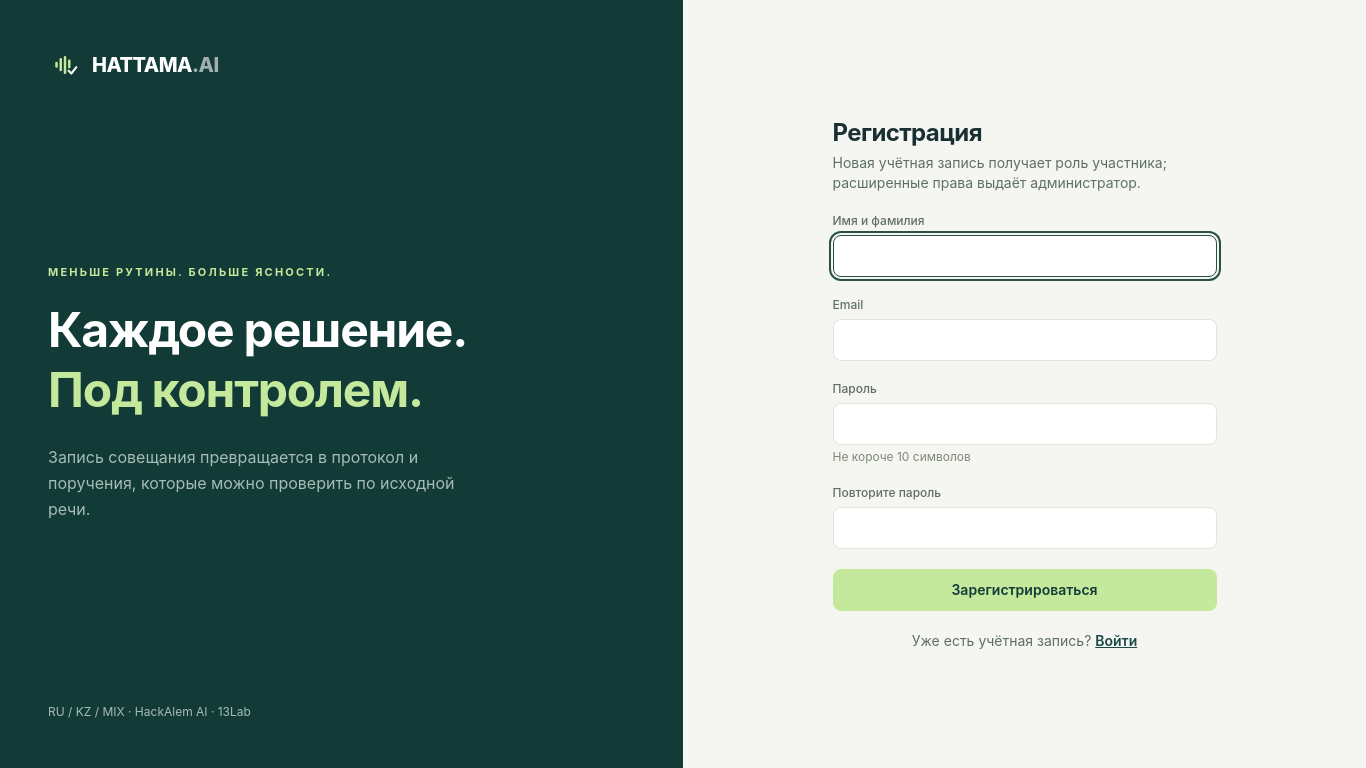
RegisterPage › checks that passwords match before sending
This screenshot has width=1366, height=768.
Type "Айжан Серикова" into the field labelled "Имя и фамилия" at (1024, 256), box [832,235,1216,277]
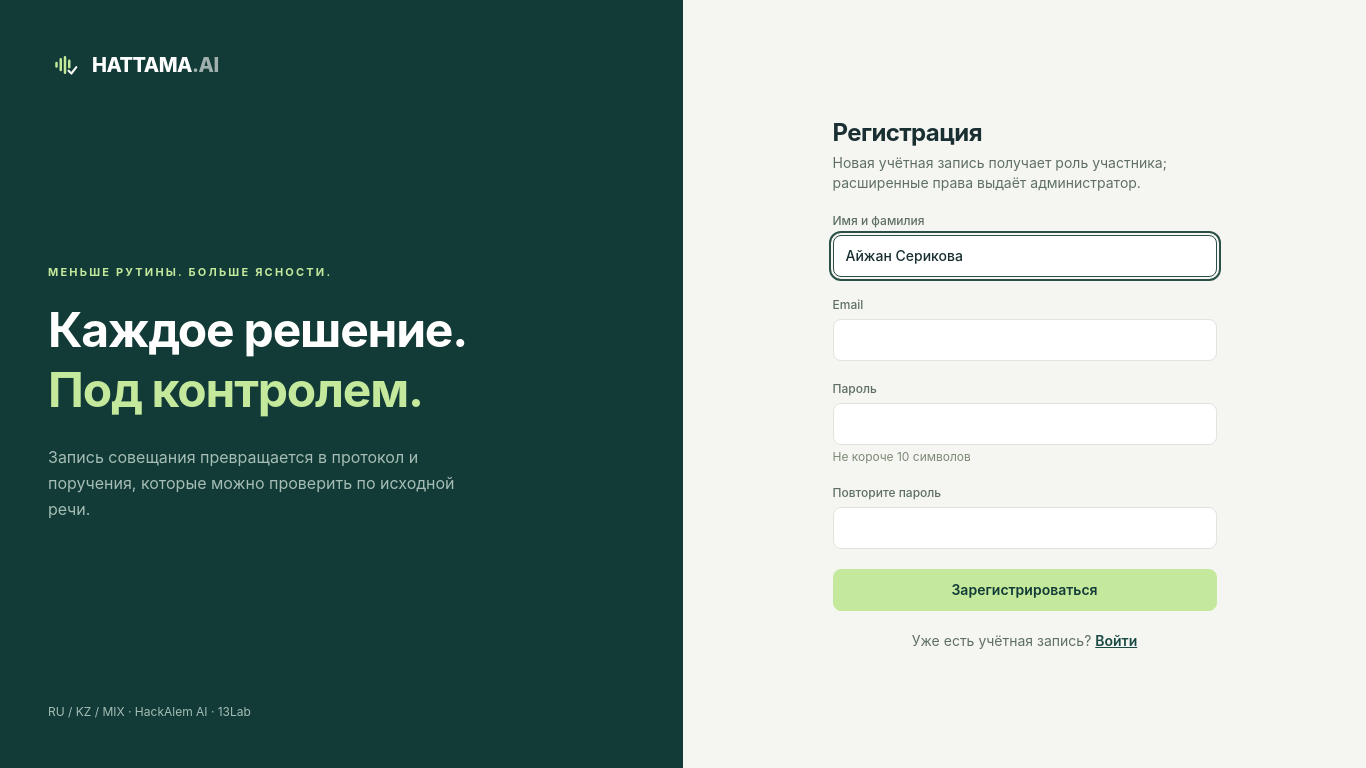
Type "aizhan@example.kz" into the field labelled "Email" at (1024, 340), box [832,319,1216,361]
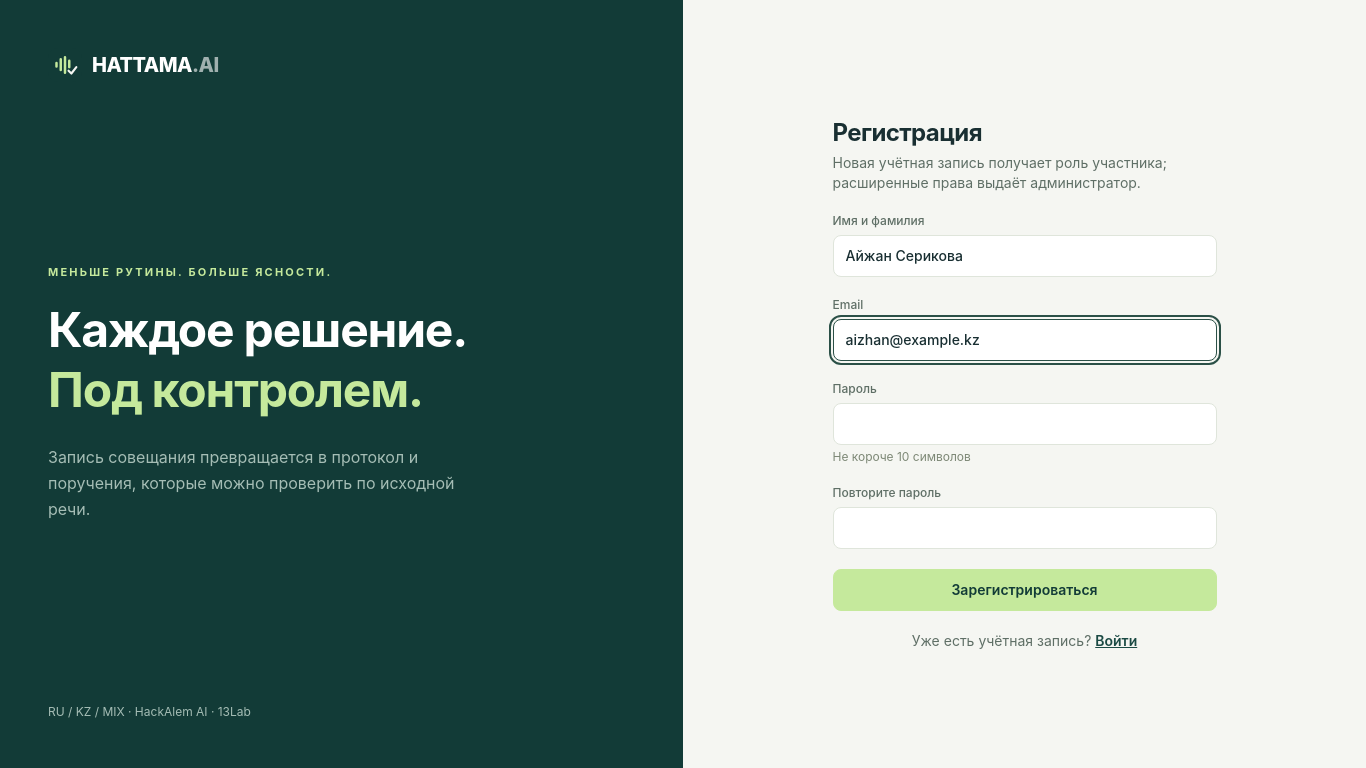
Type "long-enough-password" into the password field labelled "Пароль" at (1024, 424), box [832,403,1216,445]
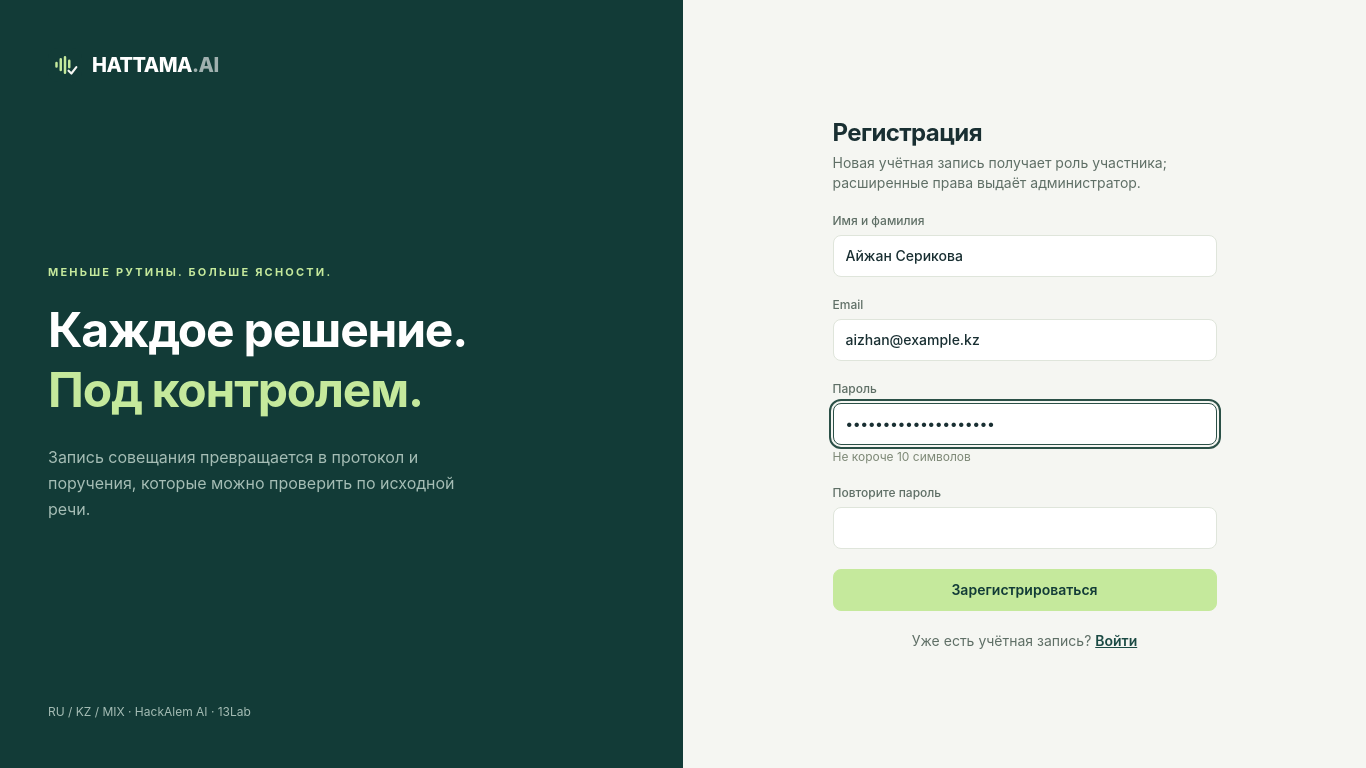
Type "different-password" into the password field labelled "Повторите пароль" at (1024, 528), box [832,507,1216,549]
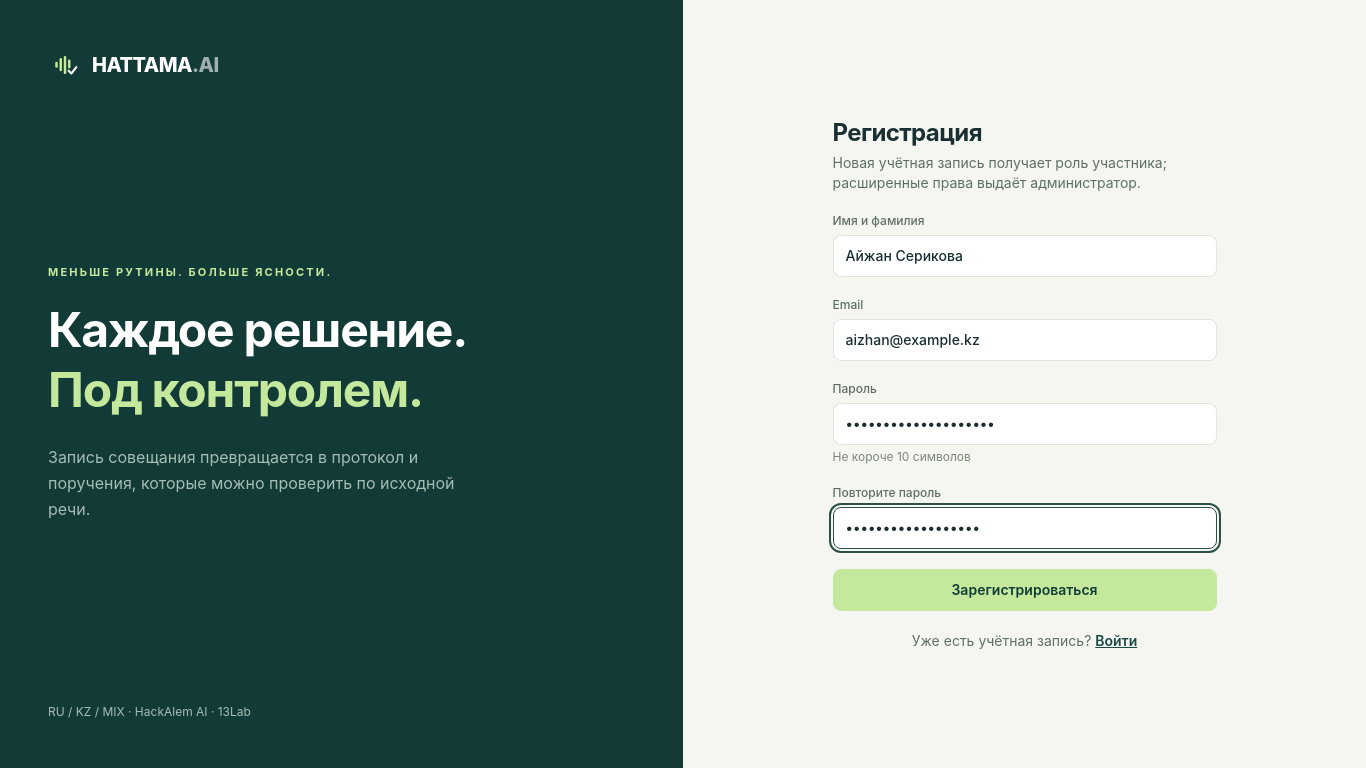
Click the button "Зарегистрироваться" at (1024, 590), box [832,569,1216,611]
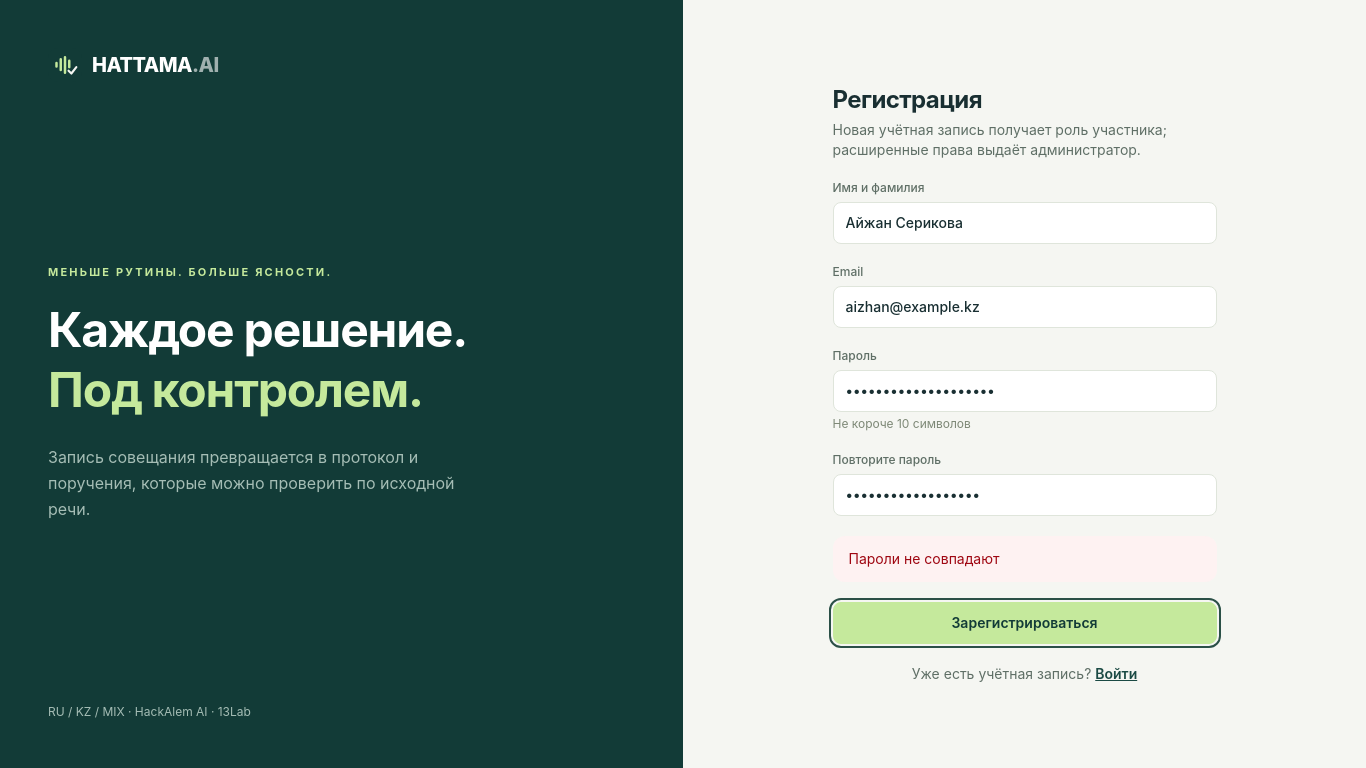
Check: the text "Пароли не совпадают" is shown, box [832,536,1216,582]
